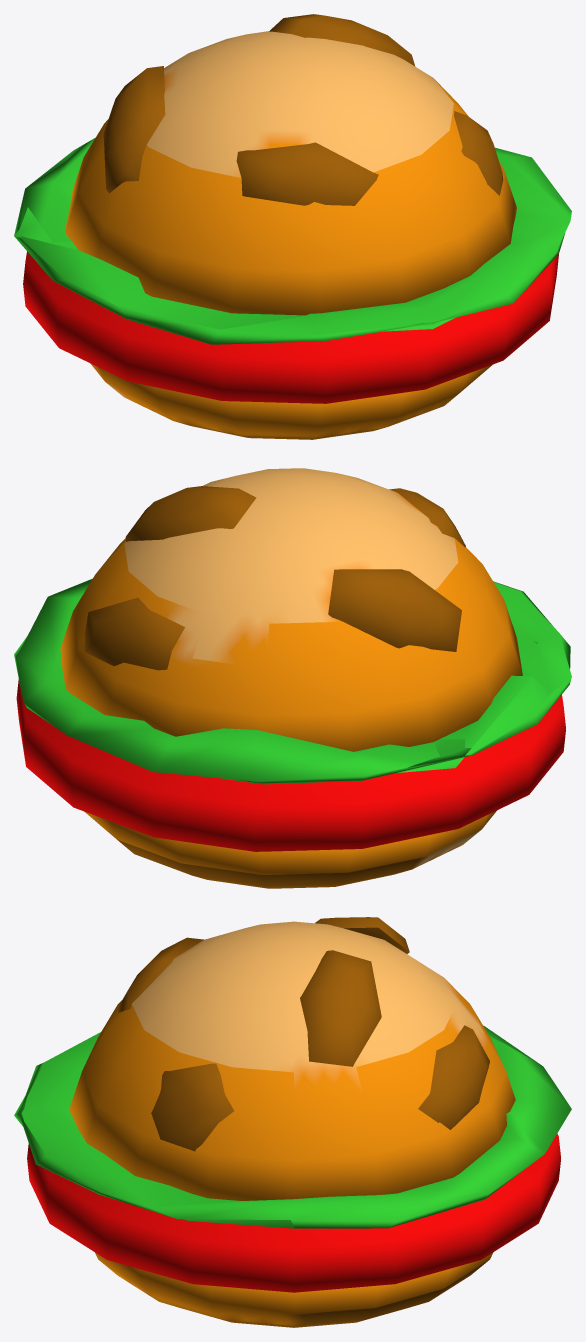
File: burger.fbx
3 renders of one model, top to bottom at view 1: azimuth 30°, elevation 25°; view 2: azimuth 150°, elevation 25°; view 3: azimuth 270°, elevation 25°, orthographic. The views are drawn at different scales.
Visible parts, largest first — view 1: Sphere; view 2: Sphere; view 3: Sphere.
Part boxes in pixels (x1=…): Sphere: x1=14, y1=14, x2=571, y2=439; Sphere: x1=14, y1=468, x2=571, y2=888; Sphere: x1=14, y1=917, x2=571, y2=1327.
Size of the model in its own units: 238 by 159 by 243.
